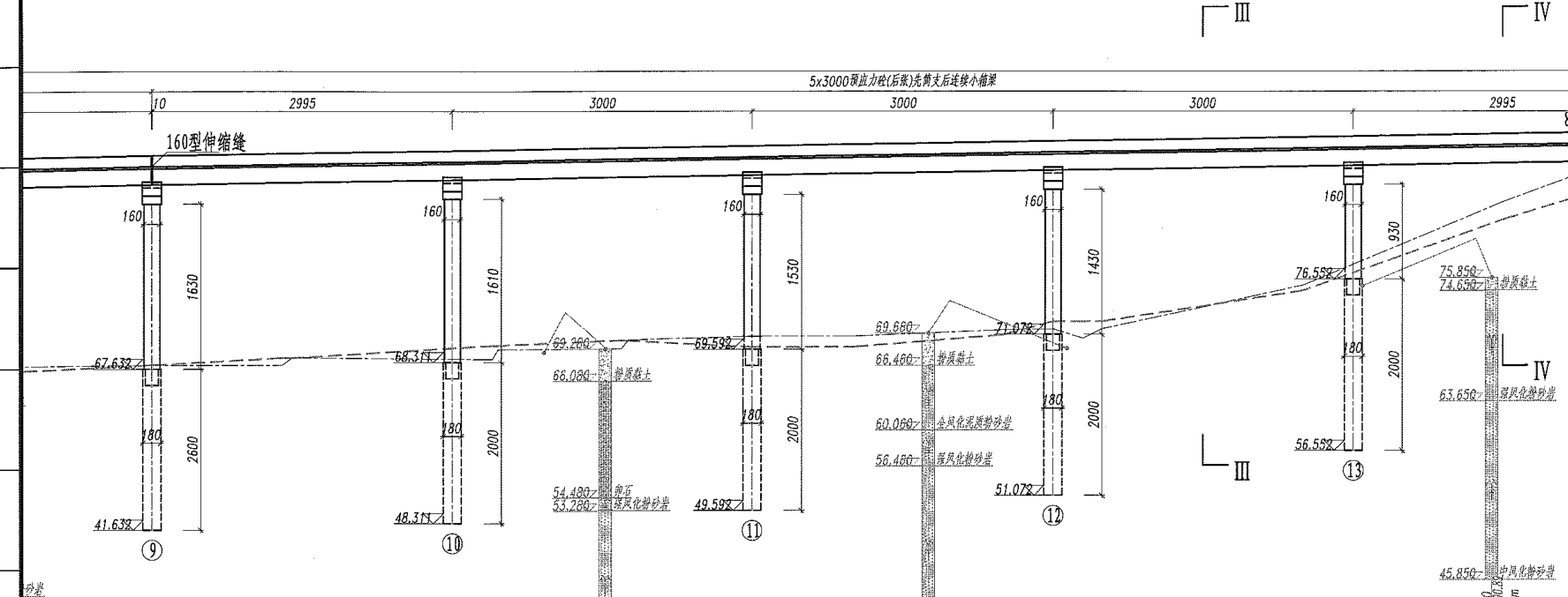B: (147, 72, 1568, 97)
C: (76, 171, 203, 571), (681, 165, 792, 564), (386, 169, 494, 577), (978, 162, 1091, 549), (1288, 152, 1390, 489)
